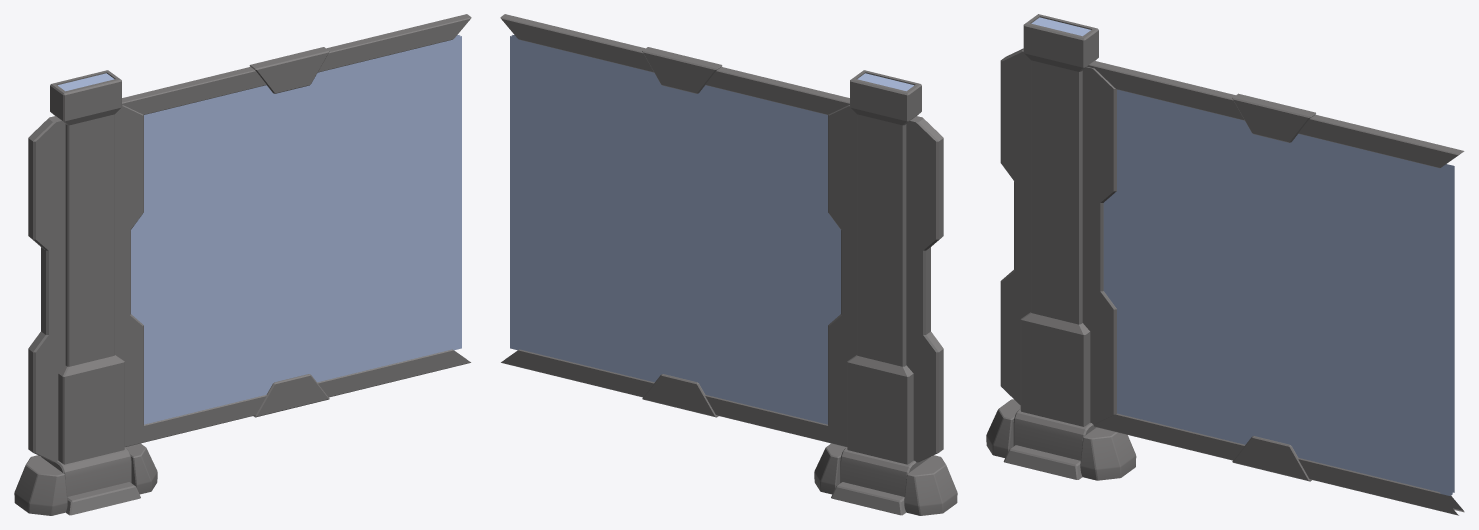
Rendered from Barriere_02_LP.fbx.
3 renders of one model, left to right at view 1: azimuth 30°, elevation 25°; view 2: azimuth 150°, elevation 25°; view 3: azimuth 330°, elevation 25°, orthographic. The views are drawn at different scales.
Visible parts, largest first — view 1: Barriere02Verre_low, Barriere02Pilier1_low, Barriere02Pilier2_low, Barriere02Cadre1_low, Barriere02Cadre2_low, Barriere02Socle3_low, Barriere02Socle2_low, Barriere02Socle1_low; view 2: Barriere02Verre_low, Barriere02Pilier1_low, Barriere02Pilier2_low, Barriere02Cadre1_low, Barriere02Cadre2_low, Barriere02Socle3_low, Barriere02Socle2_low, Barriere02Socle1_low; view 3: Barriere02Verre_low, Barriere02Pilier1_low, Barriere02Pilier2_low, Barriere02Cadre1_low, Barriere02Cadre2_low, Barriere02Socle3_low, Barriere02Socle2_low, Barriere02Socle1_low, Barriere02Holo_low.
Part boxes in pixels (x1,y1,x2,y2): Barriere02Verre_low: (131,36,461,424); Barriere02Pilier1_low: (50,70,124,464); Barriere02Pilier2_low: (28,105,143,462); Barriere02Cadre1_low: (122,14,471,446); Barriere02Cadre2_low: (249,47,329,417); Barriere02Socle3_low: (14,443,157,515); Barriere02Socle2_low: (41,447,131,496); Barriere02Socle1_low: (65,482,140,515); Barriere02Verre_low: (510,36,840,424); Barriere02Pilier1_low: (847,70,921,464); Barriere02Pilier2_low: (828,105,943,462); Barriere02Cadre1_low: (500,14,849,446); Barriere02Cadre2_low: (642,47,722,417); Barriere02Socle3_low: (814,443,957,515); Barriere02Socle2_low: (840,447,930,496); Barriere02Socle1_low: (831,482,906,515); Barriere02Verre_low: (1103,89,1454,495); Barriere02Pilier1_low: (1020,14,1098,426); Barriere02Pilier2_low: (1000,48,1116,424); Barriere02Cadre1_low: (1087,60,1464,515); Barriere02Cadre2_low: (1232,93,1315,481); Barriere02Socle3_low: (986,399,1136,480); Barriere02Socle2_low: (1013,409,1096,460); Barriere02Socle1_low: (1003,445,1082,479); Barriere02Holo_low: (1442,166,1452,495).
Bounding box in the file's own units: 2.12 × 1.86 × 0.3236.
